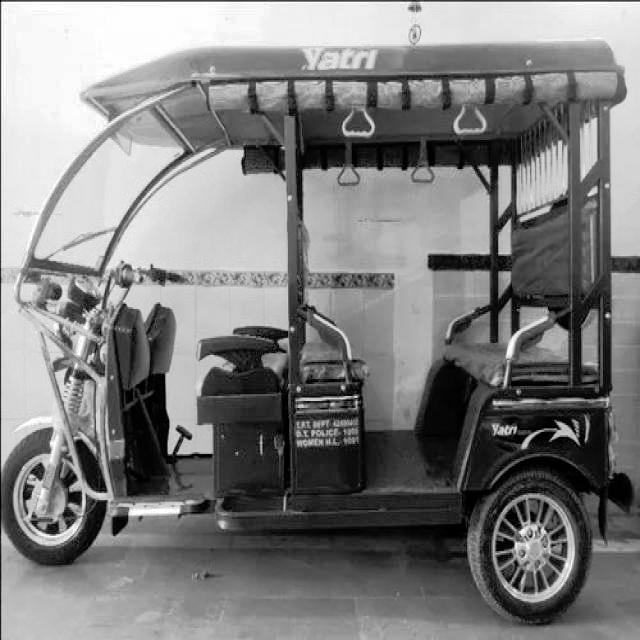Toto: (0, 38, 626, 623)
